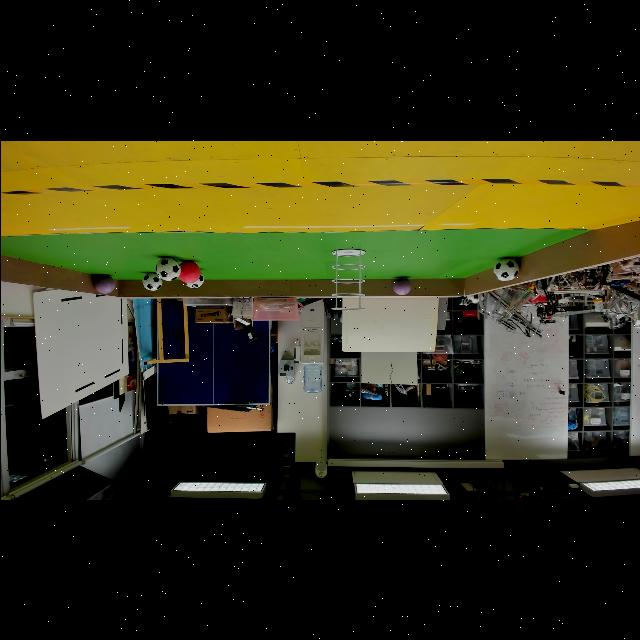P: (91, 272, 115, 294), (392, 277, 412, 295)
R: (176, 259, 200, 283)
S: (329, 248, 367, 310)
